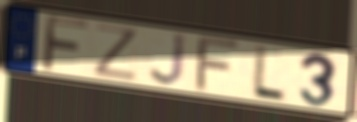3: (296, 50, 342, 110)
F: (40, 13, 91, 75), (192, 35, 244, 94)
J: (147, 32, 188, 88)
L: (249, 44, 288, 104)
Z: (91, 22, 140, 83)
